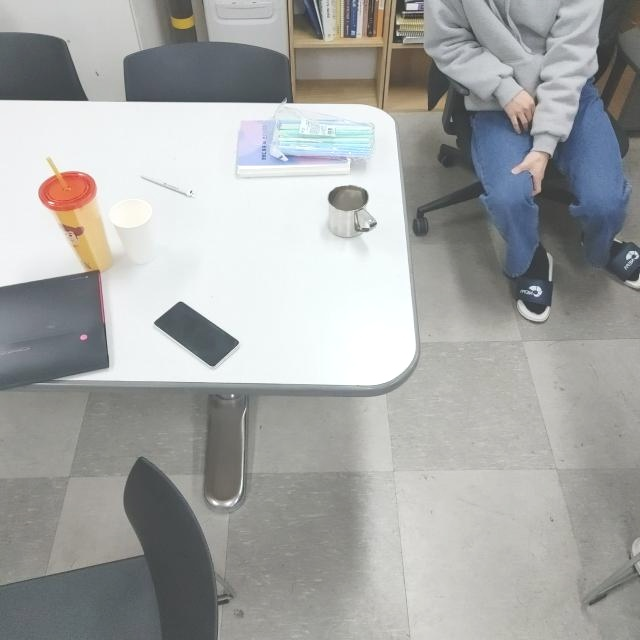cup: (325, 182, 375, 240)
phone: (153, 296, 242, 368)
